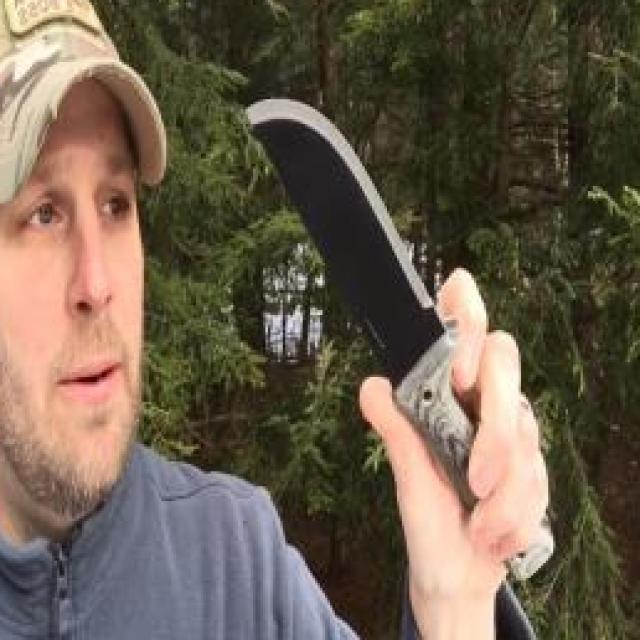knife: (237, 82, 506, 486)
